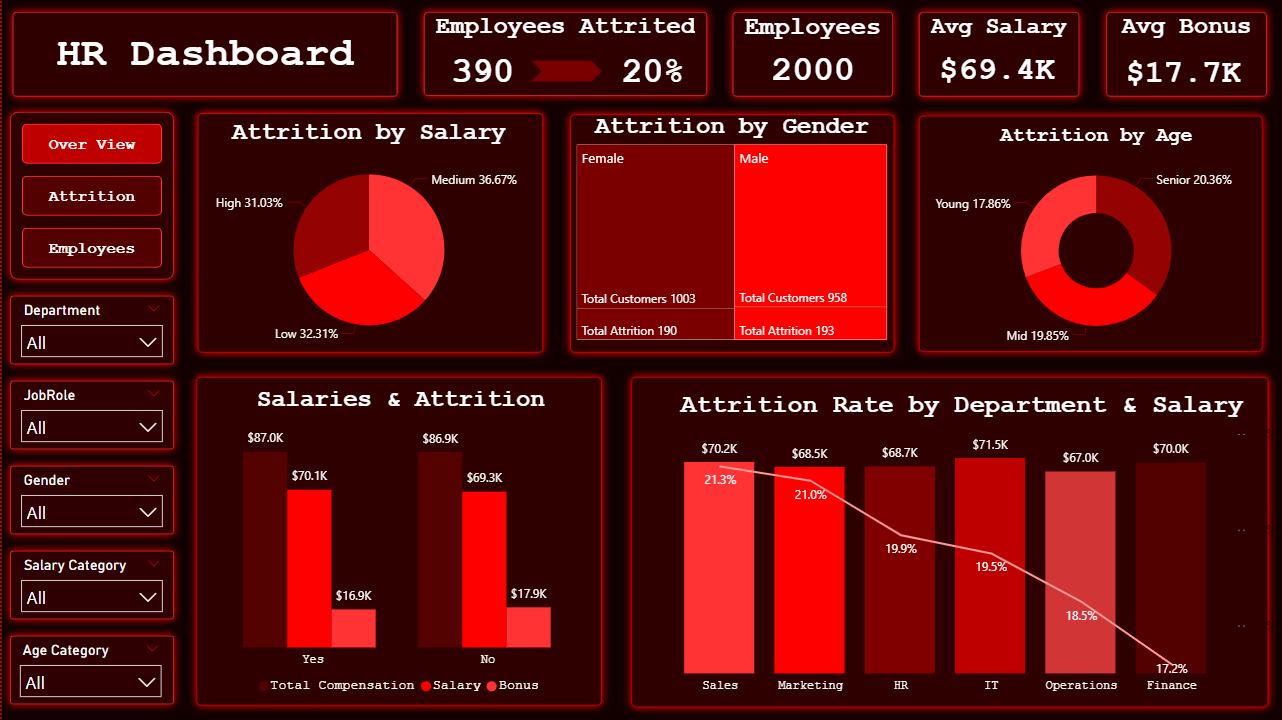

The dashboard page shown, as its layout file describes it:
{"tool":"powerbi","page":{"name":"Attrition","canvas":[1280,720],"ordinal":1},"visuals":[{"type":"shape","box":[2.2,3.3,401.1,101.1],"z":0},{"type":"shape","box":[187.5,105,361.8,255.8],"z":0,"group":"g16"},{"type":"group","id":"g1","title":"Group 6","box":[559.9,105.8,340,255],"z":0,"group":"g19"},{"type":"shape","box":[559.9,105.8,340.4,254.6],"z":0,"group":"g17"},{"type":"shape","box":[909.2,105.8,364.6,253.8],"z":0,"group":"g18"},{"type":"shape","box":[186.2,367.5,423.8,347.5],"z":0,"group":"g14"},{"type":"shape","box":[413.8,3.3,299.5,100.3],"z":4,"group":"g7"},{"type":"shape","box":[1096.6,3.3,176.7,101.1],"z":4,"group":"g5"},{"type":"shape","box":[722.5,3.5,176.7,101.1],"z":4,"group":"g2"},{"type":"shape","box":[909.1,3.5,176.7,101.1],"z":4,"group":"g4"},{"type":"group","id":"g2","title":"Group 1","box":[722.5,3.5,176.7,101.1],"z":1000},{"type":"donutChart","title":"Attrition by Gender","fields":{"Category":["HR.Gender"],"Y":["HR.Total Attrition"]},"box":[569.5,113.2,330.4,238.6],"z":1000,"group":"g19"},{"type":"pieChart","title":"Attrition by Salary","fields":{"Category":["HR.Salary Category"],"Y":["Divide(HR.Total Attrition, ScopedEval(HR.Total Attrition, []))"]},"box":[186.8,119,361.8,235.4],"z":1000,"group":"g16"},{"type":"shape","box":[619.9,368,653.3,345.8],"z":1000,"group":"g22"},{"type":"barChart","title":"Attrition by Posation","fields":{"Category":["HR.Department","HR.JobRole"],"Y":["HR.Total Attrition"]},"box":[198.8,381.7,406.1,338.3],"z":1000,"group":"g14"},{"type":"group","id":"g3","title":"Group 3","box":[412.7,3.3,327.5,100.8],"z":2000},{"type":"group","id":"g4","title":"Group 1","box":[906.5,3.5,179.3,101.1],"z":3000},{"type":"group","id":"g5","title":"Group 1","box":[1093.6,3.3,179.6,102.2],"z":4000},{"type":"cardVisual","title":"Total Revenue","fields":{"Data":["HR.Total Employees"]},"box":[730.3,35.7,162.2,67.8],"z":4502,"group":"g2"},{"type":"cardVisual","title":"Total Revenue","fields":{"Data":["HR.Avg Salary Y"]},"box":[906.5,36.4,177.5,67.5],"z":4502,"group":"g4"},{"type":"cardVisual","title":"Total Revenue","fields":{"Data":["HR.Total Attrition"]},"box":[412.7,36.9,136.6,67.8],"z":4502,"group":"g7"},{"type":"cardVisual","title":"Total Revenue","fields":{"Data":["HR.Avg Salary N"]},"box":[1093.6,38,175,67.5],"z":4502,"group":"g5"},{"type":"group","id":"g6","title":"Group 4","box":[0,104,180,184],"z":5000},{"type":"group","id":"g7","title":"Group 1","box":[412.7,3.3,300.6,101.4],"z":6000,"group":"g10"},{"type":"group","id":"g8","title":"Group 5","box":[0,288,180,85],"z":6000},{"type":"cardVisual","title":"Attrition Rate","fields":{"Data":["HR.Attrition Rate"]},"box":[562.8,37.4,177.5,67.1],"z":7000,"group":"g10"},{"type":"group","id":"g9","title":"Group 5","box":[0,372,180,85],"z":7000},{"type":"group","id":"g10","title":"Group 2","box":[412.7,3.3,327.9,101.3],"z":7003,"group":"g3"},{"type":"shape","box":[528.1,59.7,73.3,22.2],"z":7503,"group":"g3"},{"type":"shape","box":[0,104,180,184],"z":8000,"group":"g6"},{"type":"shape","box":[0,288,180,85],"z":8000,"group":"g8"},{"type":"shape","box":[0,372,180,85],"z":8000,"group":"g9"},{"type":"shape","box":[0,457,180,85],"z":8000,"group":"g12"},{"type":"group","id":"g11","title":"Group 5","box":[0,542,180,85],"z":8000},{"type":"shape","box":[0,542,180,85],"z":8000,"group":"g11"},{"type":"shape","box":[0,628,180,85],"z":8000,"group":"g13"},{"type":"pageNavigator","box":[20,123.7,140,144.7],"z":9000,"group":"g6"},{"type":"group","id":"g12","title":"Group 5","box":[0,457,180,85],"z":9000},{"type":"slicer","title":"kjlj","fields":{"Values":["HR.Department"]},"box":[9,297,162,64],"z":9001,"group":"g8"},{"type":"slicer","title":"kjlj","fields":{"Values":["HR.JobRole"]},"box":[9,381,162,64],"z":9001,"group":"g9"},{"type":"slicer","title":"kjlj","fields":{"Values":["HR.Gender"]},"box":[9,466,162,64],"z":9001,"group":"g12"},{"type":"slicer","title":"kjlj","fields":{"Values":["HR.Salary Category"]},"box":[9,551,162,64],"z":9001,"group":"g11"},{"type":"slicer","title":"kjlj","fields":{"Values":["HR.Age Category"]},"box":[8,637,162,64],"z":9001,"group":"g13"},{"type":"group","id":"g13","title":"Group 5","box":[0,628,180,85],"z":10000},{"type":"group","id":"g14","title":"Group 6","box":[186.2,367.5,423.8,352.5],"z":11000},{"type":"group","id":"g15","title":"Group 6","box":[186.8,105,362.5,255.8],"z":12000},{"type":"group","id":"g16","title":"Group 7","box":[186.8,105,362.5,255.8],"z":12001,"group":"g15"},{"type":"group","id":"g17","title":"Group 7","box":[559.9,105.8,340.4,254.6],"z":12001,"group":"g1"},{"type":"group","id":"g18","title":"Group 7","box":[909.2,105.8,364.6,253.8],"z":12001,"group":"g21"},{"type":"group","id":"g19","title":"Group 8","box":[559.9,105.8,340,254.2],"z":13000},{"type":"group","id":"g20","title":"Group 9","box":[909.2,105.8,364.2,254.2],"z":14000},{"type":"group","id":"g21","title":"Group 6","box":[909.2,105.8,364.2,254.2],"z":14000,"group":"g20"},{"type":"tableEx","fields":{"Values":["HR.EmployeeID","HR.Name","HR.Department","HR.JobRole","HR.Gender","HR.Age","HR.Education","HR.Salary","HR.Attrition"]},"box":[629.1,373.8,633.3,330.8],"z":14000,"group":"g22"},{"type":"columnChart","title":"Attrition by Age","fields":{"Category":["HR.Age Category"],"Y":["HR.Total Attrition"]},"box":[918.3,115.6,354.2,238.4],"z":15000,"group":"g20"},{"type":"group","id":"g22","title":"Group 10","box":[619.9,368,653.3,345.8],"z":15000}]}

Visuals, with their boxes in screenshot pixels (x1, y1, x2, y2), scaled from the page's 1280x720 canvas onto the 1282x720 screenshot:
shape: [2, 3, 404, 104]
shape: [188, 105, 550, 361]
"Group 6" group: [561, 106, 901, 361]
shape: [561, 106, 902, 360]
shape: [911, 106, 1276, 360]
shape: [186, 368, 611, 715]
shape: [414, 3, 714, 104]
shape: [1098, 3, 1275, 104]
shape: [724, 4, 901, 105]
shape: [911, 4, 1087, 105]
"Group 1" group: [724, 4, 901, 105]
"Attrition by Gender" donutChart: [570, 113, 901, 352]
"Attrition by Salary" pieChart: [187, 119, 549, 354]
shape: [621, 368, 1275, 714]
"Attrition by Posation" barChart: [199, 382, 606, 719]
"Group 3" group: [413, 3, 741, 104]
"Group 1" group: [908, 4, 1087, 105]
"Group 1" group: [1095, 3, 1275, 106]
"Total Revenue" cardVisual: [731, 36, 894, 104]
"Total Revenue" cardVisual: [908, 36, 1086, 104]
"Total Revenue" cardVisual: [413, 37, 550, 105]
"Total Revenue" cardVisual: [1095, 38, 1271, 106]
"Group 4" group: [0, 104, 180, 288]
"Group 1" group: [413, 3, 714, 105]
"Group 5" group: [0, 288, 180, 373]
"Attrition Rate" cardVisual: [564, 37, 741, 104]
"Group 5" group: [0, 372, 180, 457]
"Group 2" group: [413, 3, 742, 105]
shape: [529, 60, 602, 82]
shape: [0, 104, 180, 288]
shape: [0, 288, 180, 373]
shape: [0, 372, 180, 457]
shape: [0, 457, 180, 542]
"Group 5" group: [0, 542, 180, 627]
shape: [0, 542, 180, 627]
shape: [0, 628, 180, 713]
pageNavigator: [20, 124, 160, 268]
"Group 5" group: [0, 457, 180, 542]
"kjlj" slicer: [9, 297, 171, 361]
"kjlj" slicer: [9, 381, 171, 445]
"kjlj" slicer: [9, 466, 171, 530]
"kjlj" slicer: [9, 551, 171, 615]
"kjlj" slicer: [8, 637, 170, 701]
"Group 5" group: [0, 628, 180, 713]
"Group 6" group: [186, 368, 611, 719]
"Group 6" group: [187, 105, 550, 361]
"Group 7" group: [187, 105, 550, 361]
"Group 7" group: [561, 106, 902, 360]
"Group 7" group: [911, 106, 1276, 360]
"Group 8" group: [561, 106, 901, 360]
"Group 9" group: [911, 106, 1275, 360]
"Group 6" group: [911, 106, 1275, 360]
tableEx - HR.EmployeeID x HR.Name: [630, 374, 1264, 705]
"Attrition by Age" columnChart: [920, 116, 1274, 354]
"Group 10" group: [621, 368, 1275, 714]
